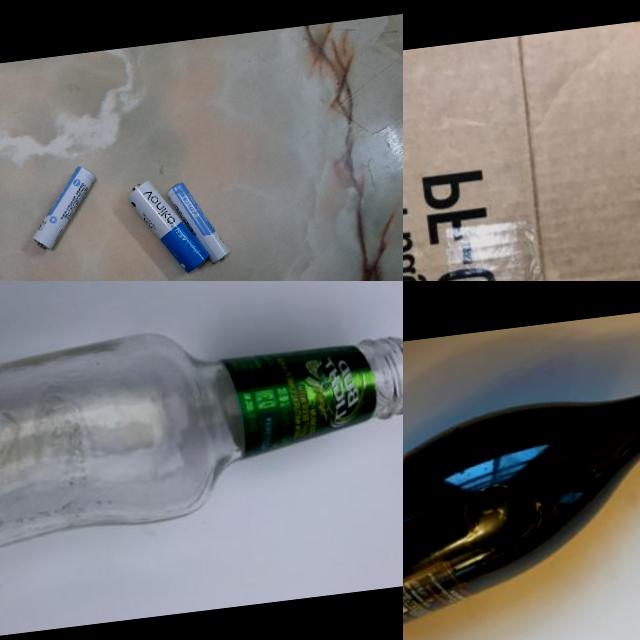bateria: (125, 172, 212, 279), (24, 163, 103, 251), (164, 177, 228, 267)
garrafa de vidro: (0, 297, 403, 586), (403, 330, 640, 640)
papelão: (403, 9, 640, 281)
